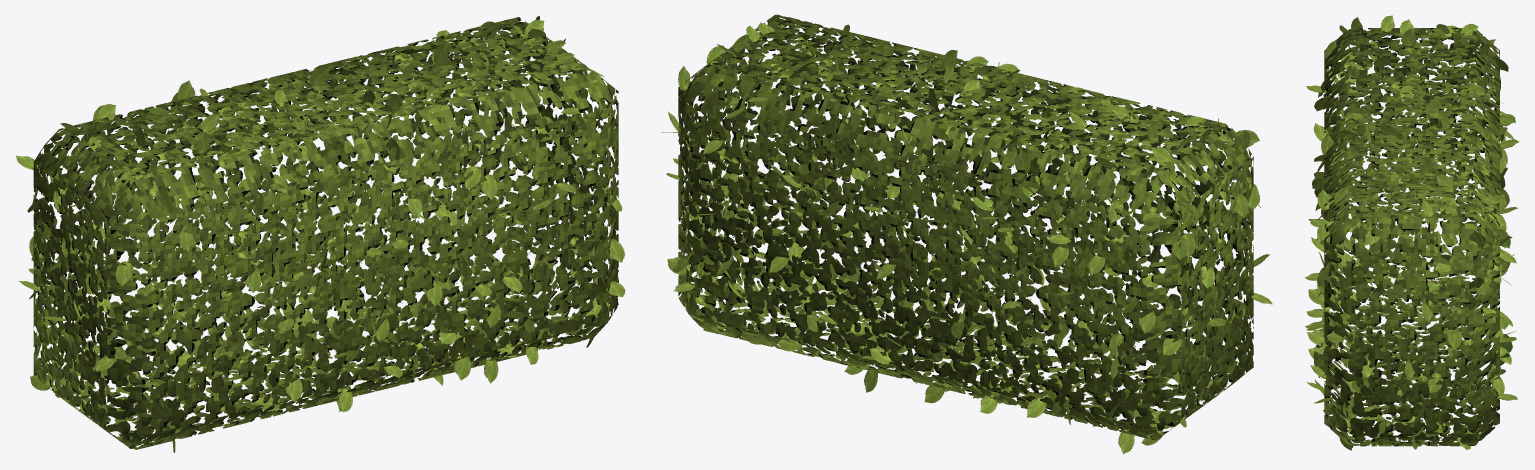
File: Bush01.fbx
3 renders of one model, left to right at view 1: azimuth 30°, elevation 25°; view 2: azimuth 150°, elevation 25°; view 3: azimuth 270°, elevation 25°, orthographic. The views are drawn at different scales.
Visible parts, largest first — view 1: Bush01; view 2: Bush01; view 3: Bush01.
Boxes of the visible parts, x1=… form: Bush01: x1=16, y1=16, x2=625, y2=452; Bush01: x1=661, y1=14, x2=1272, y2=454; Bush01: x1=1304, y1=15, x2=1519, y2=450.
Bounding box in the file's own units: 216 × 117 × 86.62.
